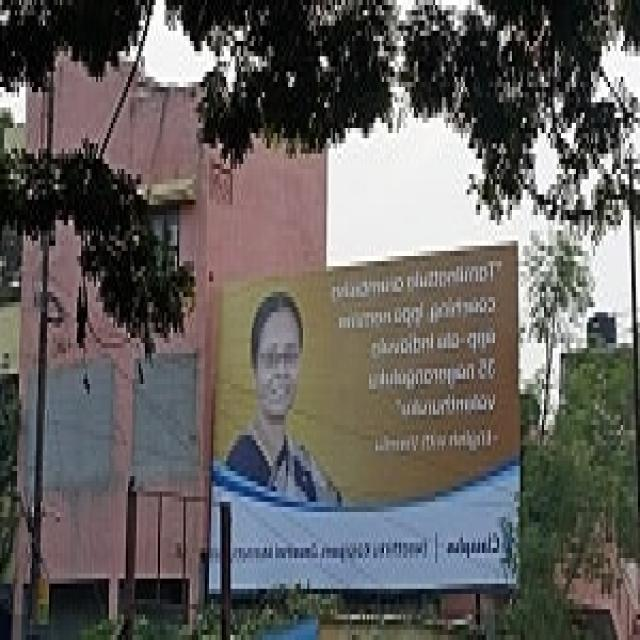Werbetafel frei: (211, 241, 517, 594)
